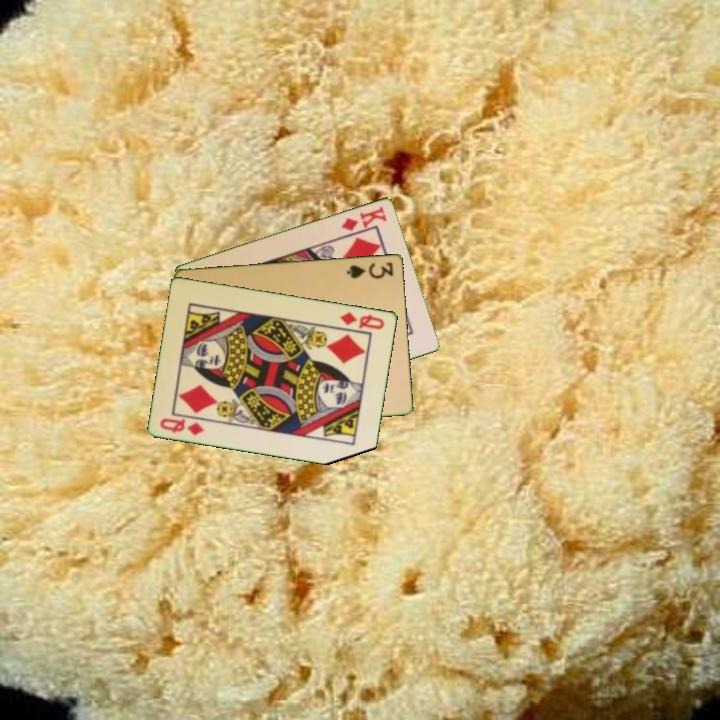3s: (344, 258, 396, 281)
Kd: (338, 202, 390, 234)
Qd: (337, 308, 388, 332), (157, 414, 207, 438)
